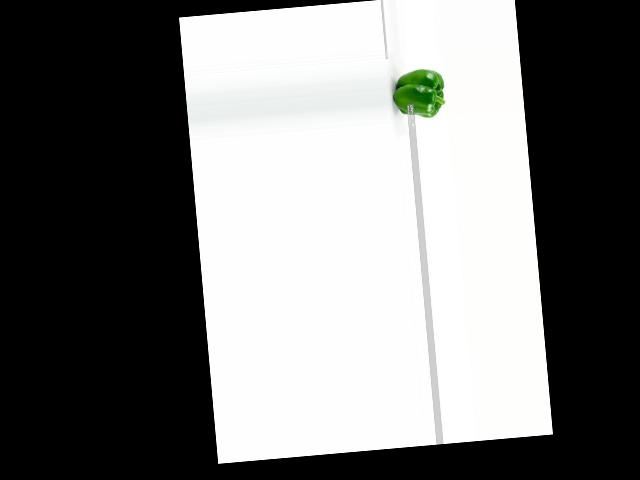bell_pepper: (388, 65, 449, 120)
